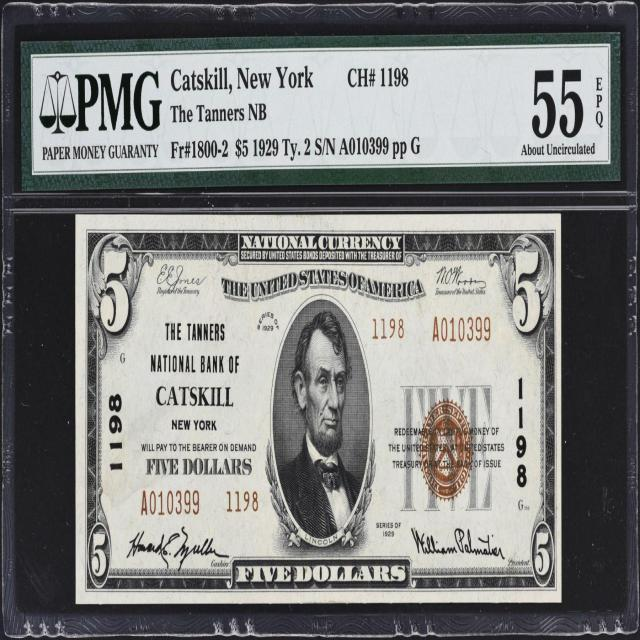5-Front: (75, 219, 561, 604)
